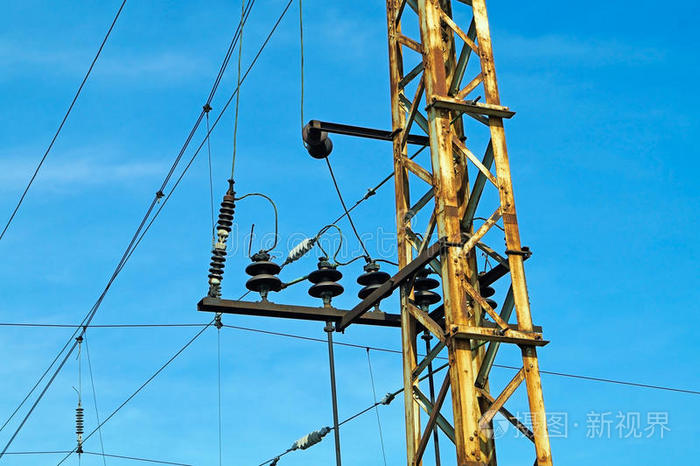insulator: (243, 260, 285, 294), (305, 268, 347, 299), (301, 121, 334, 160), (356, 270, 395, 298), (206, 247, 230, 280), (412, 277, 439, 305), (215, 201, 239, 231)
